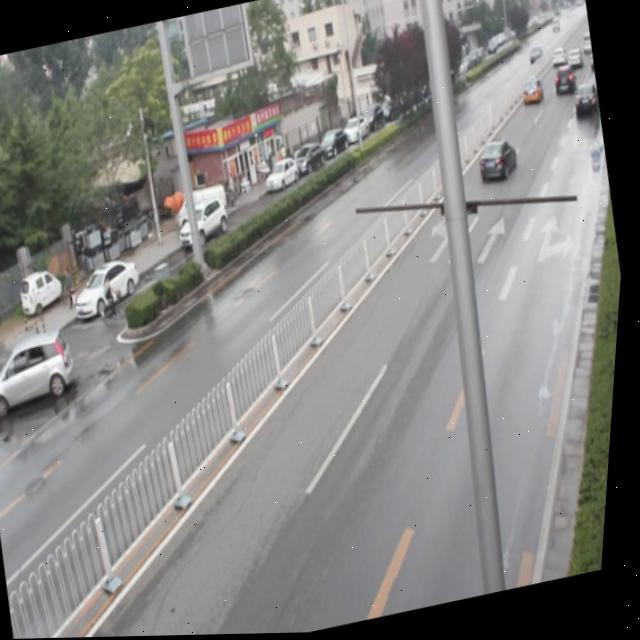car: (475, 136, 522, 185), (570, 83, 603, 122)
